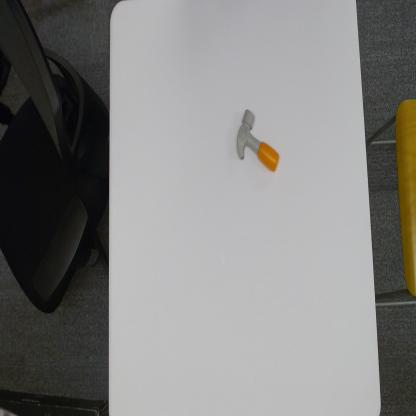Hammer: (236, 110, 280, 172)
